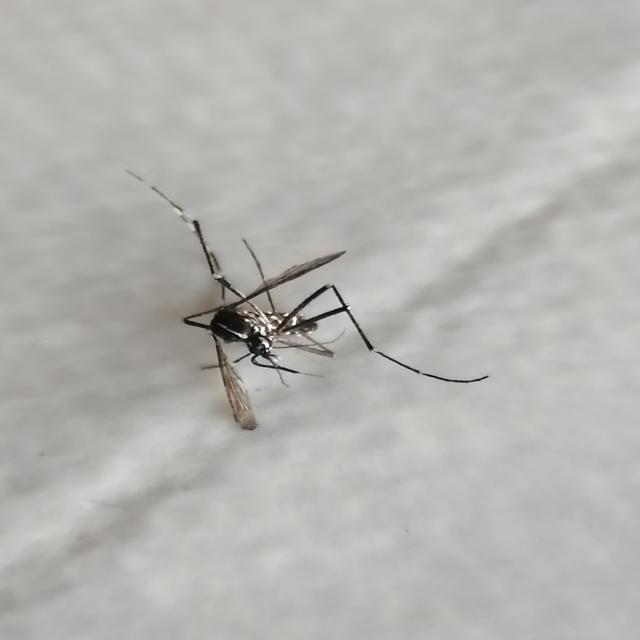albopictus: (108, 158, 479, 433)
